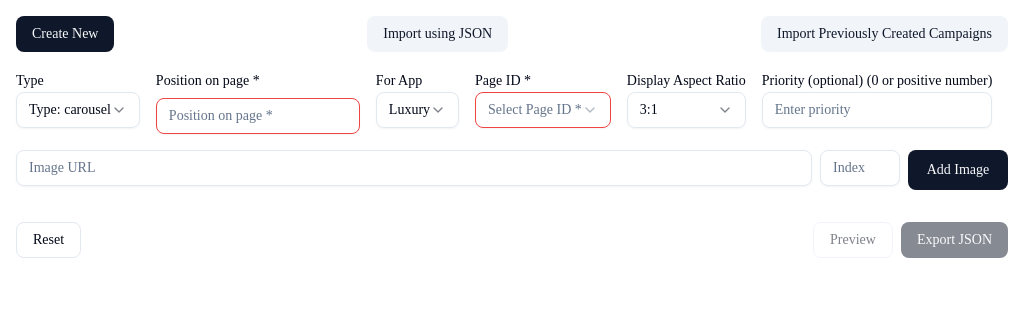
ImageCarouselEditor › Image Addition › shows error for invalid image URL
Type "invalid-url" into the field with placeholder "Image URL" at (414, 168), box [16, 150, 812, 186]
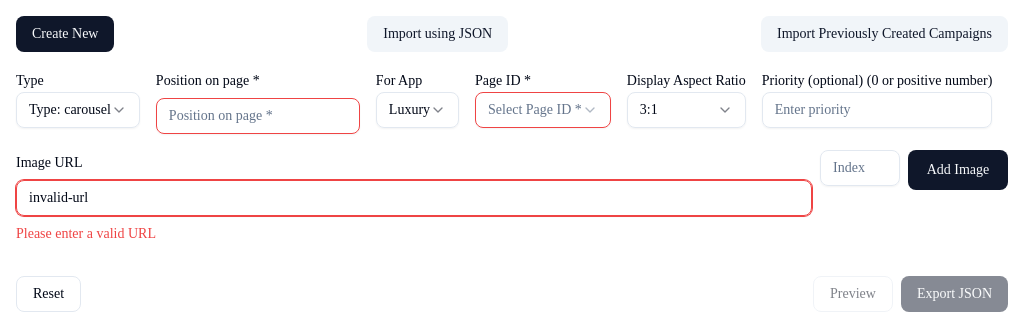
Expected: the text "Please enter a valid URL" is shown, [16, 226, 156, 241]
